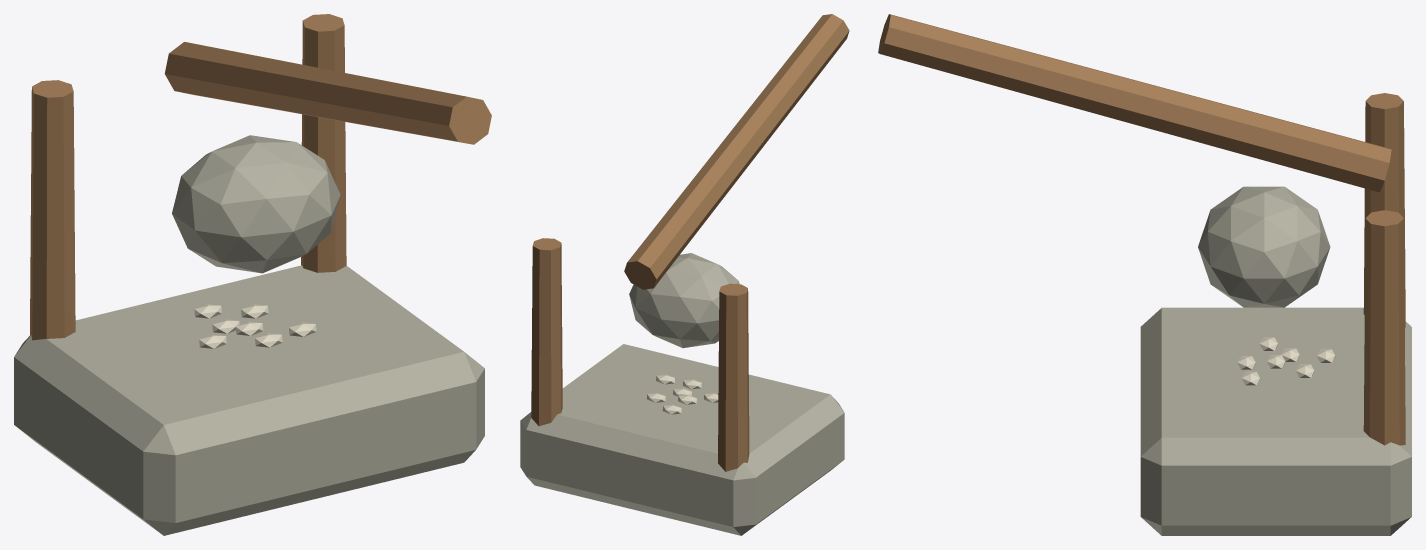
3 views of the same model, side by side, from view 1: azimuth 30°, elevation 25°; view 2: azimuth 150°, elevation 25°; view 3: azimuth 270°, elevation 25° (orthographic). The views are drawn at different scales.
Parts seen in each view (by area): view 1: CE-052 Lever shell-crushing bed batched; view 2: CE-052 Lever shell-crushing bed batched; view 3: CE-052 Lever shell-crushing bed batched.
Part boxes in pixels (<box>): CE-052 Lever shell-crushing bed batched: <box>14,14,491,535</box>; CE-052 Lever shell-crushing bed batched: <box>520,14,849,535</box>; CE-052 Lever shell-crushing bed batched: <box>878,14,1411,535</box>.
Size of the model in its own units: 0.58 by 0.8349 by 0.8855.
